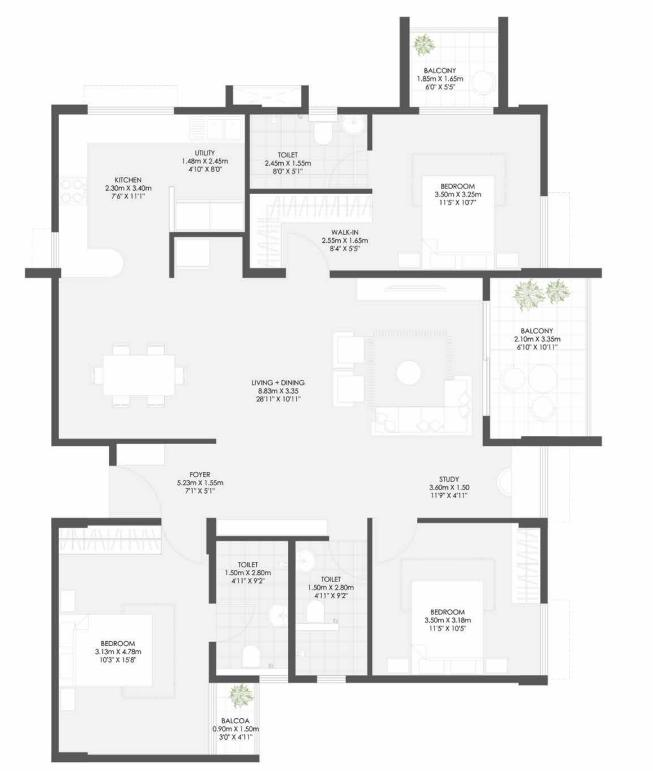Balcony: (488, 273, 590, 444), (406, 28, 501, 111)
Bed: (407, 579, 485, 672), (424, 177, 500, 272), (55, 612, 149, 685)
Bedroom: (54, 524, 211, 758), (371, 111, 544, 269), (371, 521, 543, 679)
Dining Room: (60, 314, 234, 438)
Dining table: (84, 337, 194, 416)
Foyer: (109, 447, 364, 521)
Kitchen: (54, 118, 170, 307)
Living Room: (239, 287, 486, 444)
Sofa: (371, 404, 468, 435), (332, 331, 362, 405), (441, 370, 472, 434), (394, 359, 423, 381)
Wardrobe: (52, 525, 163, 553), (251, 194, 370, 219), (248, 193, 283, 269), (512, 521, 543, 604)
balcoa: (212, 680, 257, 754)
commode: (313, 121, 334, 145), (242, 646, 261, 671), (309, 601, 327, 624)
door: (108, 465, 163, 517), (284, 232, 332, 276), (163, 527, 207, 571), (375, 524, 419, 568), (214, 604, 259, 642), (329, 147, 369, 188), (329, 540, 367, 581)
fridge: (176, 240, 211, 268)
kitchen-slab: (57, 113, 246, 144), (57, 114, 90, 278), (52, 247, 128, 280)
sink: (186, 115, 243, 143), (340, 116, 367, 136), (294, 548, 316, 571), (269, 604, 287, 627)
stove: (57, 175, 87, 207)
study: (368, 447, 551, 523)
toilet: (293, 538, 372, 680), (212, 537, 290, 677), (250, 110, 369, 191)
tv: (357, 279, 483, 306)
utility: (172, 116, 248, 230)
walkin: (250, 191, 370, 276)
washing-machine: (178, 202, 211, 227)
